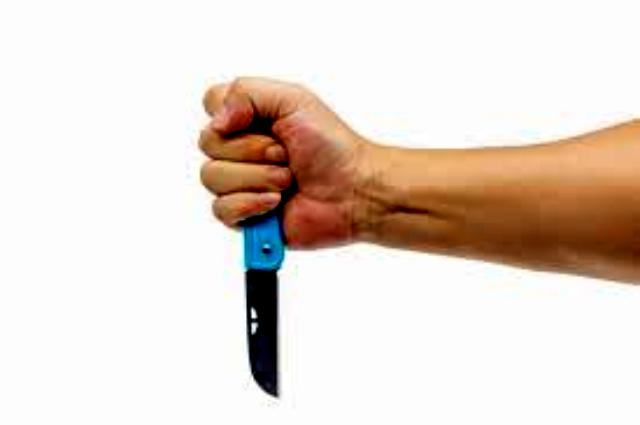pocket-knife: (194, 102, 334, 400)
